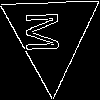M: (26, 10, 68, 53)
